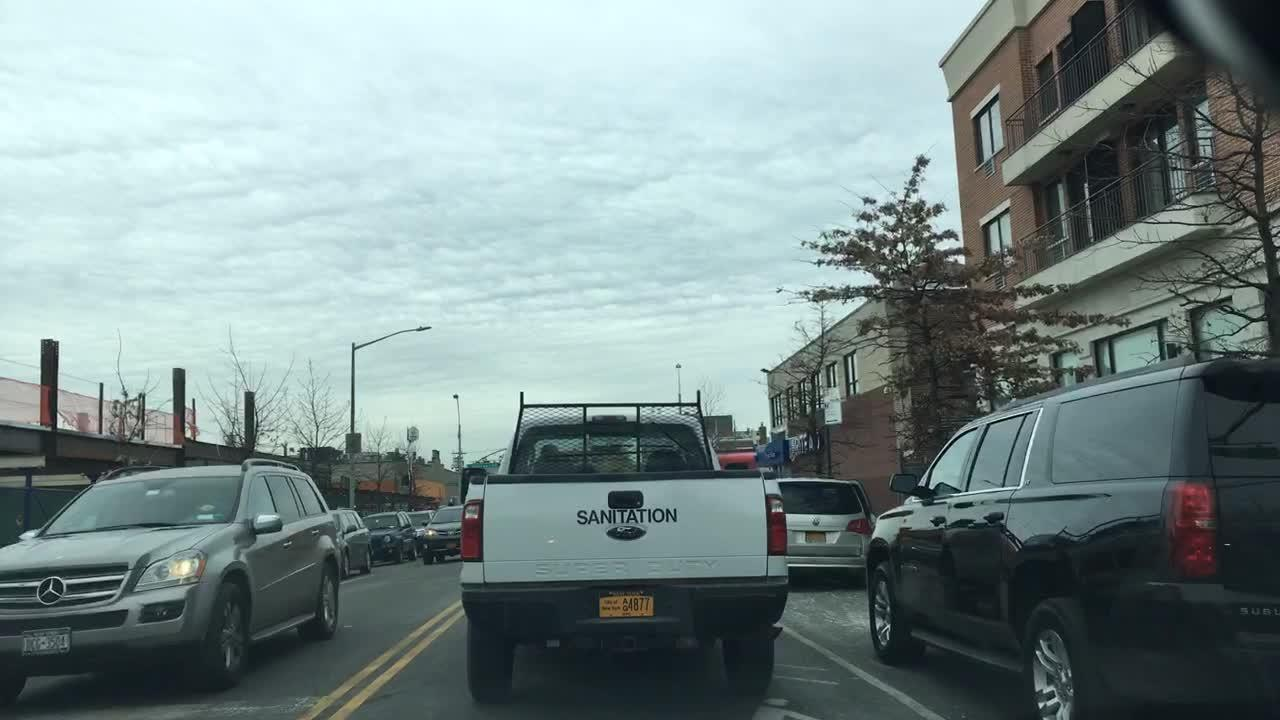Mercedes: (33, 571, 69, 608)
